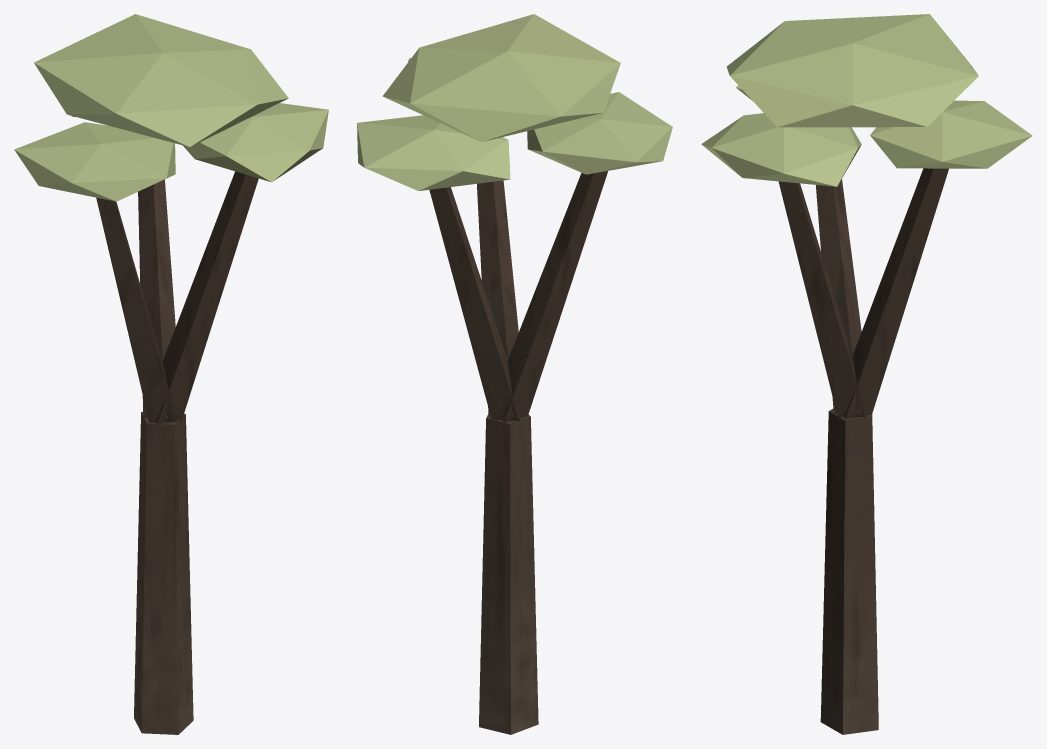
File: arv_acacia_3.glb
3 renders of one model, left to right at view 1: azimuth 30°, elevation 25°; view 2: azimuth 150°, elevation 25°; view 3: azimuth 270°, elevation 25°, orthographic.
Visible parts, largest first — view 1: arv_acacia_3; view 2: arv_acacia_3; view 3: arv_acacia_3.
Part boxes in pixels (left/top/right/bottom): arv_acacia_3: left=14, top=14, right=328, bottom=734; arv_acacia_3: left=357, top=14, right=672, bottom=734; arv_acacia_3: left=701, top=14, right=1032, bottom=734.
Bounding box in the file's own units: 0.7962 × 1.88 × 0.8304.
Materials: 2 (1 with a texture image).
